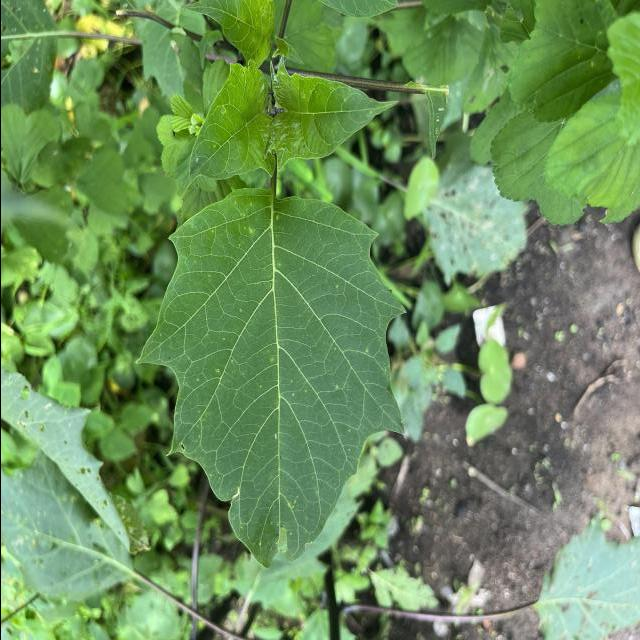Datura metal linn: (130, 179, 410, 571), (256, 50, 399, 176), (174, 56, 276, 198)
